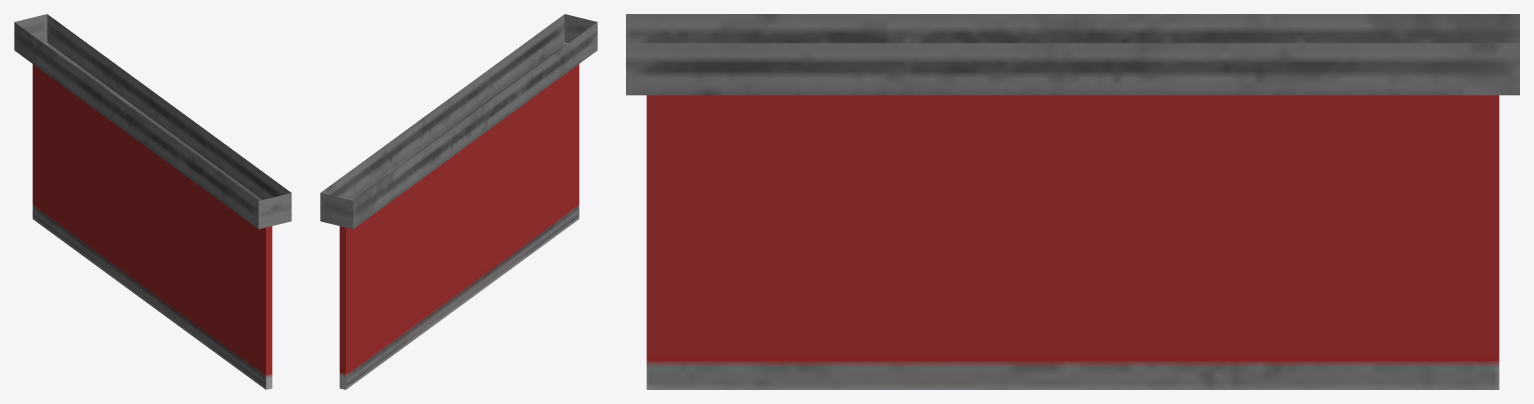
Rendered from HH_Exit_02.fbx.
3 views of the same model, side by side, from view 1: azimuth 30°, elevation 25°; view 2: azimuth 150°, elevation 25°; view 3: azimuth 270°, elevation 25° (orthographic). The views are drawn at different scales.
Visible parts, largest first — view 1: HH_Exit_02; view 2: HH_Exit_02; view 3: HH_Exit_02.
Part boxes in pixels (x1=…): HH_Exit_02: x1=14, y1=14, x2=291, y2=389; HH_Exit_02: x1=320, y1=14, x2=597, y2=389; HH_Exit_02: x1=626, y1=14, x2=1519, y2=389.
Size of the model in its own units: 3.48 by 19.82 by 44.74.
